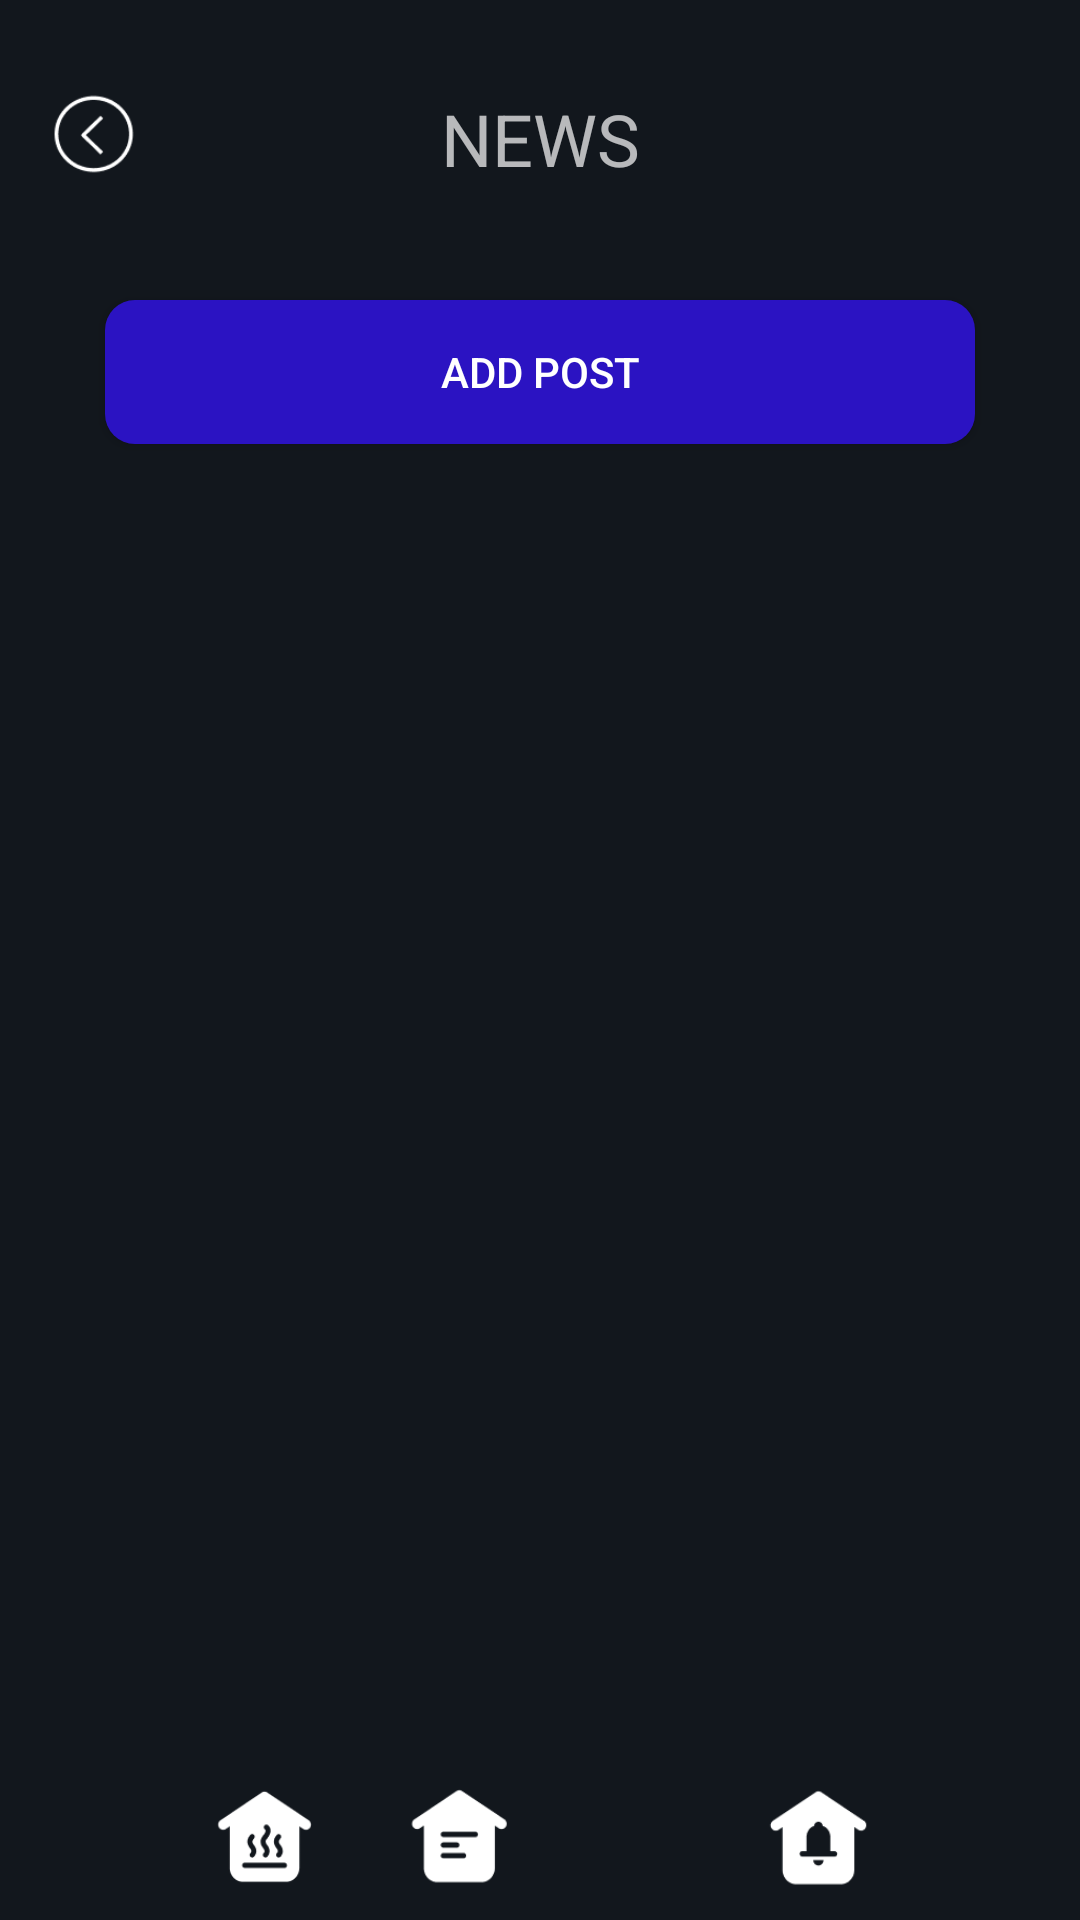

Point at icon controls on the screen. Image size 1080 × 1920, points as [x,y].
back arrow: [94,134]
home: [264,1836]
news: [459,1836]
notification: [818,1838]
